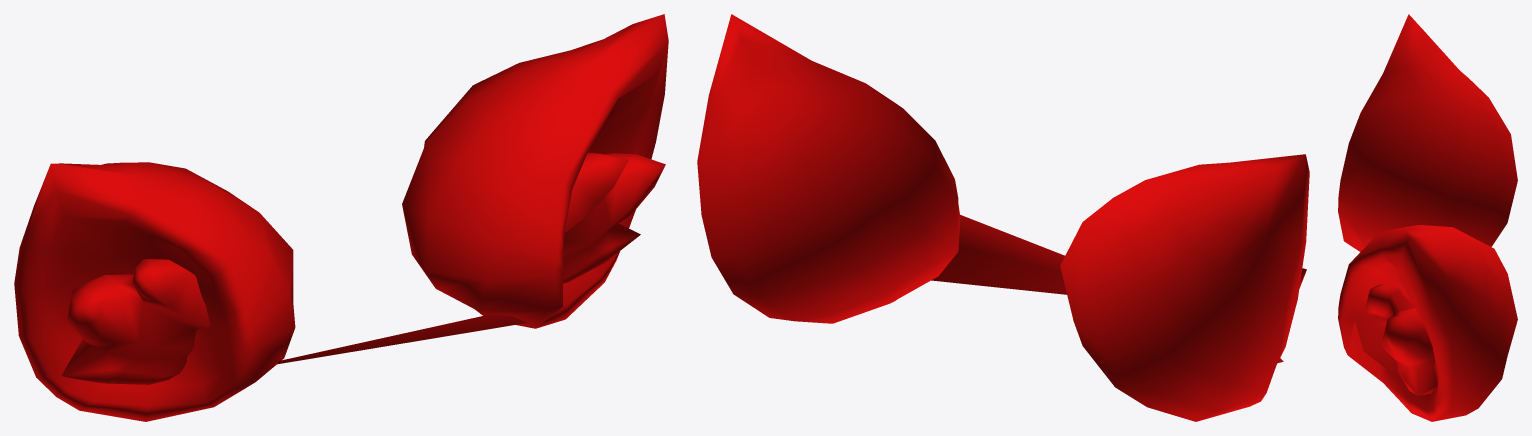
Rendered from HeadAcc_FlufflessKittyEars.glb.
3 renders of one model, left to right at view 1: azimuth 30°, elevation 25°; view 2: azimuth 150°, elevation 25°; view 3: azimuth 270°, elevation 25°, orthographic. The views are drawn at different scales.
Visible parts, largest first — view 1: HeadAcc_FlufflessKittyEars; view 2: HeadAcc_FlufflessKittyEars; view 3: HeadAcc_FlufflessKittyEars.
Boxes of the visible parts, x1,y1,x2,y2 form: HeadAcc_FlufflessKittyEars: (14,14,668,421); HeadAcc_FlufflessKittyEars: (697,14,1309,421); HeadAcc_FlufflessKittyEars: (1338,14,1517,421).
Size of the model in its own units: 0.2268 by 0.0971 by 0.0748.
